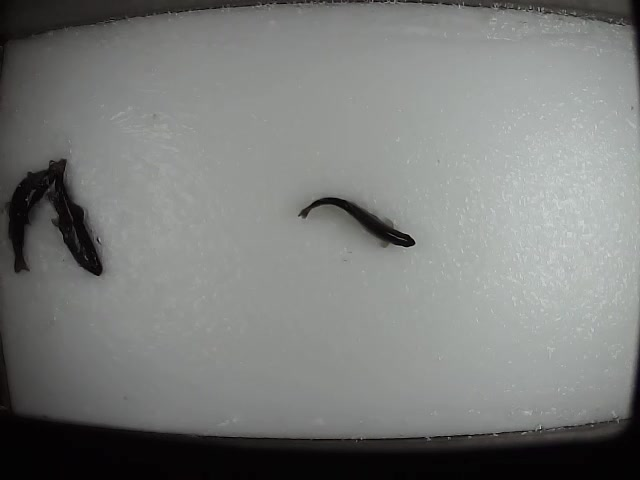fish: (46, 158, 105, 274), (296, 196, 419, 249), (1, 163, 59, 275)
